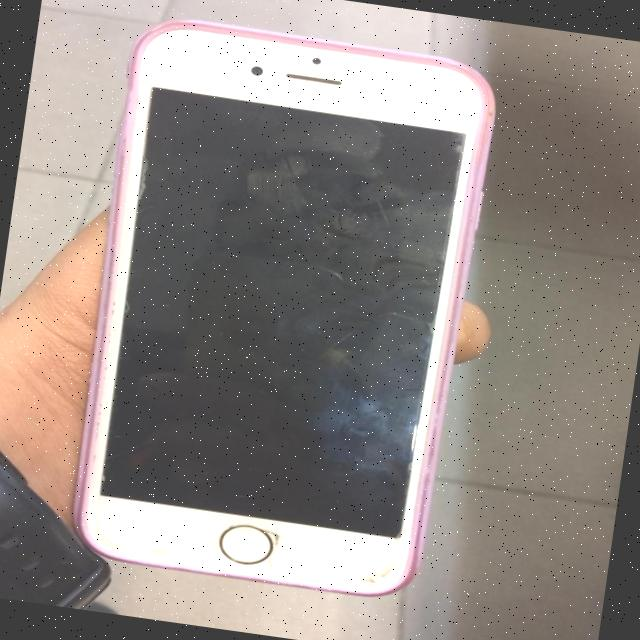Phone: (58, 9, 506, 606)
